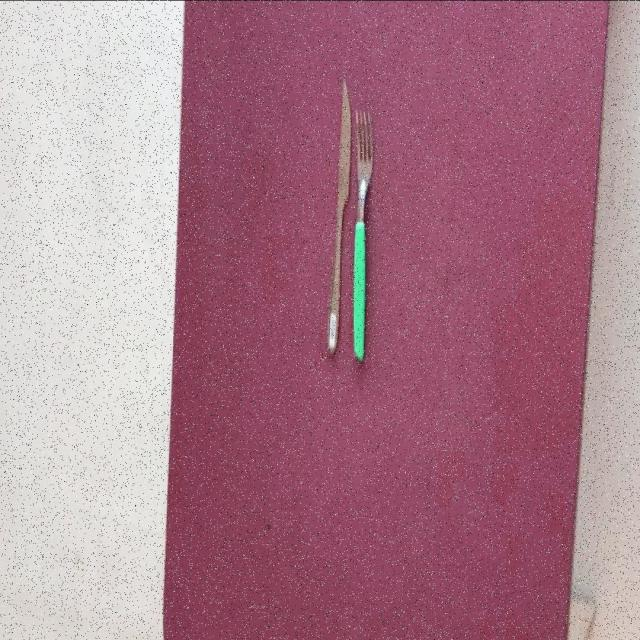Fork: (352, 106, 373, 361)
Knife: (326, 76, 352, 357)
